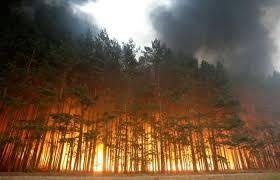fire: (52, 127, 106, 172)
